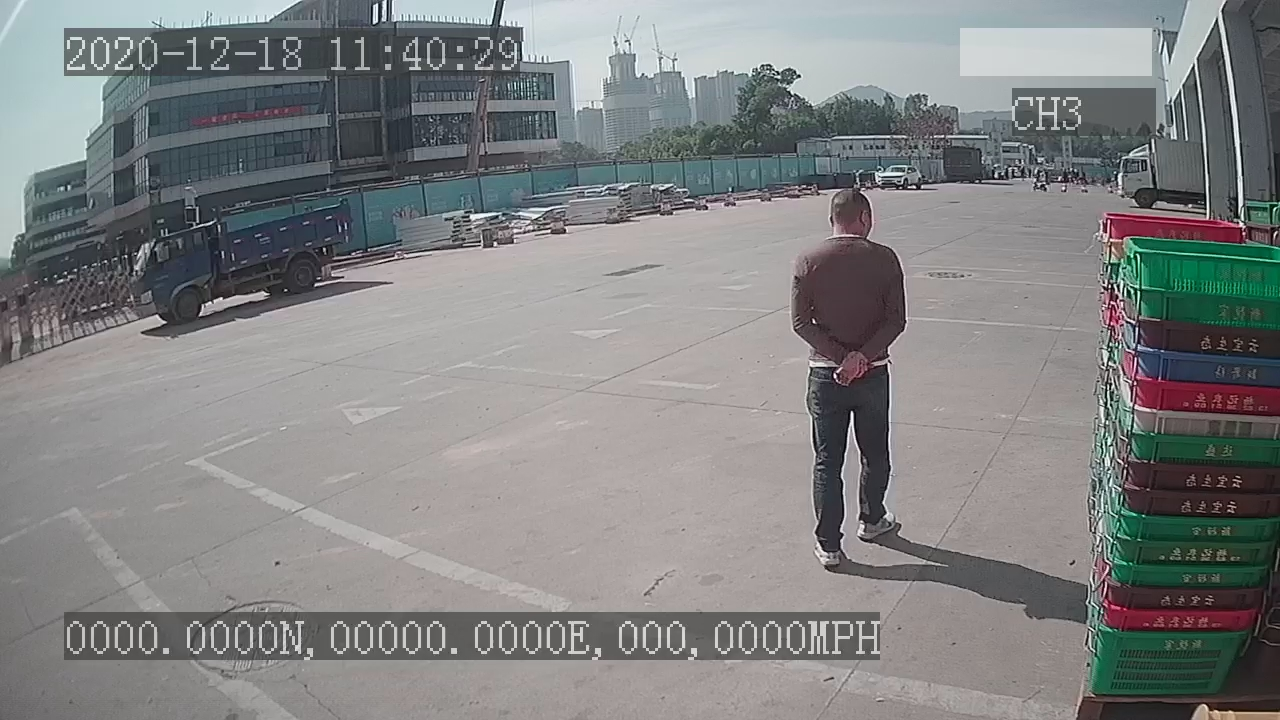person: (779, 186, 909, 566)
